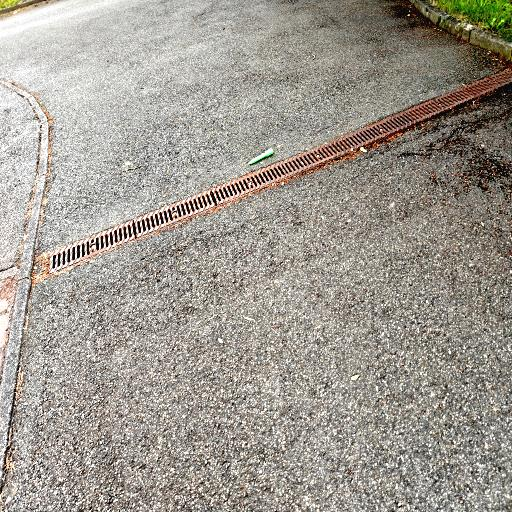Probe-Detection: (248, 148, 273, 165)
